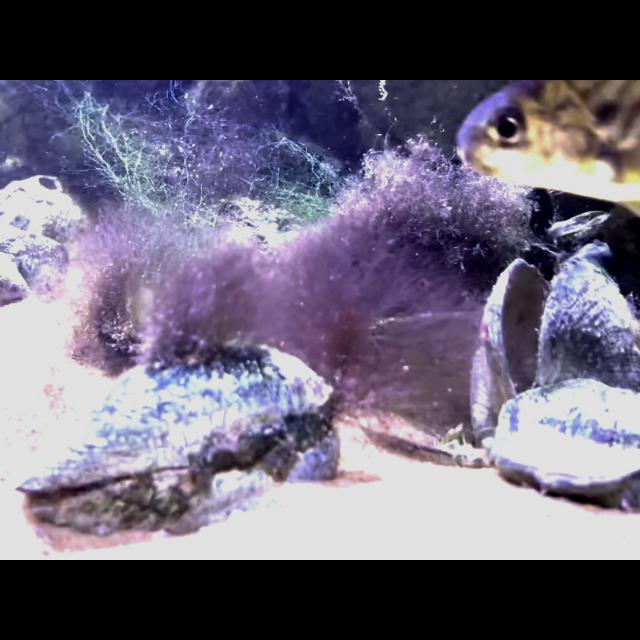Oyster-Closed: (488, 378, 640, 498)
Oyster-Open: (16, 340, 338, 538), (470, 253, 640, 457)
